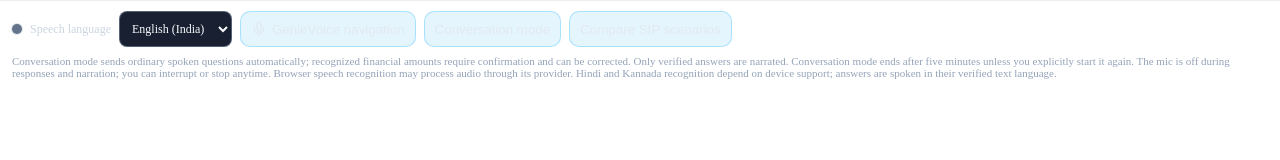
Test: GenieVoice opt-in navigation › rejects fake pages and unsupported elevated actions
The width and height of the screenshot is (1280, 160).
Click the button with aria-label "Start GenieVoice navigation".
click(328, 29)  # box [240,11,416,47]
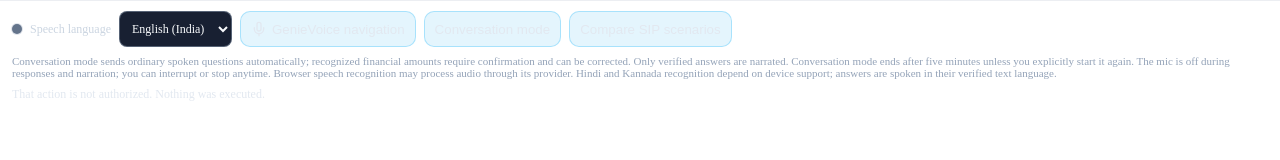
Expected: the text "That action is not authorized. Nothing was executed." is shown, [12,87,265,101]
